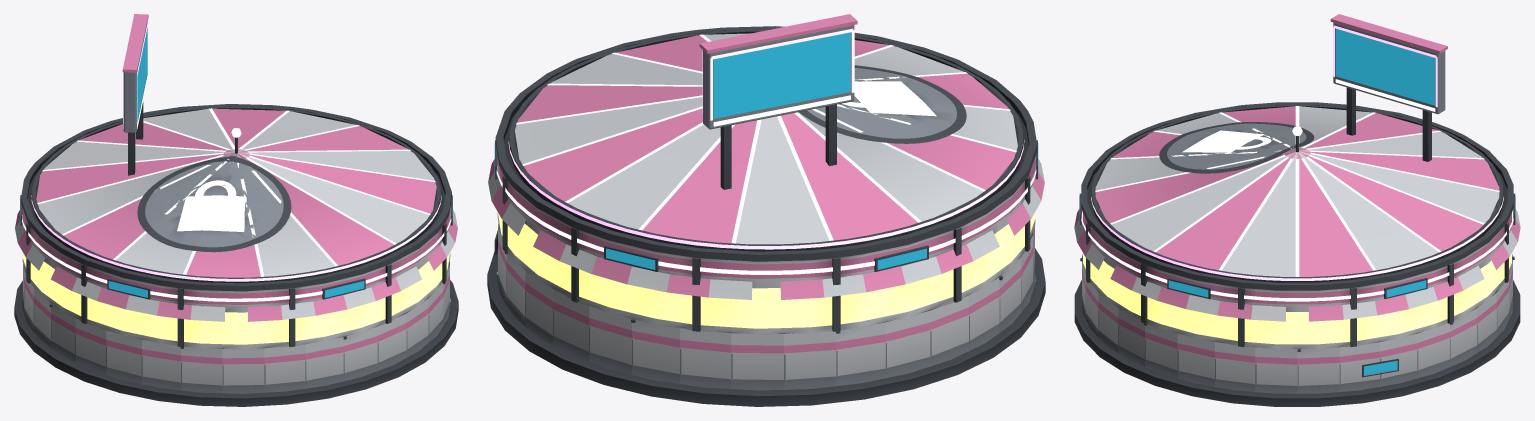
The model's file is retail_s.glb.
The picture shows the model from 3 angles, left to right: view 1: azimuth 30°, elevation 25°; view 2: azimuth 150°, elevation 25°; view 3: azimuth 270°, elevation 25°; orthographic projection. The views are drawn at different scales.
Visible parts, largest first — view 1: Roof, PorchTop, Base, Upper_21, Wall_21, Wall_22, Wall_20, Upper_20, Wall_19, Upper_22, Wall_23, Wall_18 (+22 smaller); view 2: Roof, PorchTop, Base, Upper_10, Wall_10, Wall_09, Wall_11, Upper_11, Wall_12, Upper_09, Wall_08, Wall_13 (+26 smaller); view 3: Roof, PorchTop, Base, Upper_00, Upper_31, Wall_00, Wall_31, Wall_30, Upper_01, Upper_30, Wall_29, Wall_01 (+24 smaller).
Part boxes in pixels (x1=…): Roof: x1=15, y1=14, x2=457, y2=321; PorchTop: x1=20, y1=22, x2=452, y2=301; Base: x1=14, y1=280, x2=458, y2=406; Upper_21: x1=222, y1=290, x2=264, y2=349; Wall_21: x1=222, y1=347, x2=264, y2=393; Wall_22: x1=264, y1=344, x2=305, y2=392; Wall_20: x1=180, y1=346, x2=222, y2=393; Upper_20: x1=180, y1=288, x2=222, y2=348; Wall_19: x1=141, y1=339, x2=180, y2=390; Upper_22: x1=264, y1=286, x2=304, y2=347; Wall_23: x1=305, y1=336, x2=343, y2=388; Wall_18: x1=106, y1=330, x2=141, y2=384; Roof: x1=488, y1=14, x2=1044, y2=299; PorchTop: x1=494, y1=28, x2=1038, y2=274; Base: x1=487, y1=248, x2=1045, y2=406; Upper_10: x1=731, y1=260, x2=783, y2=334; Wall_10: x1=731, y1=332, x2=783, y2=390; Wall_09: x1=680, y1=328, x2=731, y2=389; Wall_11: x1=784, y1=331, x2=835, y2=389; Upper_11: x1=784, y1=258, x2=836, y2=333; Wall_12: x1=836, y1=322, x2=885, y2=386; Upper_09: x1=680, y1=255, x2=731, y2=332; Wall_08: x1=631, y1=318, x2=679, y2=383; Wall_13: x1=885, y1=310, x2=930, y2=378; Roof: x1=1074, y1=14, x2=1520, y2=321; PorchTop: x1=1079, y1=25, x2=1515, y2=301; Base: x1=1074, y1=280, x2=1520, y2=406; Upper_00: x1=1297, y1=289, x2=1339, y2=348; Upper_31: x1=1255, y1=289, x2=1297, y2=348; Wall_00: x1=1297, y1=347, x2=1339, y2=393; Wall_31: x1=1255, y1=347, x2=1297, y2=393; Wall_30: x1=1215, y1=341, x2=1255, y2=391; Upper_01: x1=1339, y1=283, x2=1379, y2=346; Upper_30: x1=1215, y1=283, x2=1255, y2=346; Wall_29: x1=1177, y1=333, x2=1214, y2=386; Wall_01: x1=1339, y1=341, x2=1379, y2=391.
Size of the model in its own units: 11.74 by 7.36 by 11.76.
